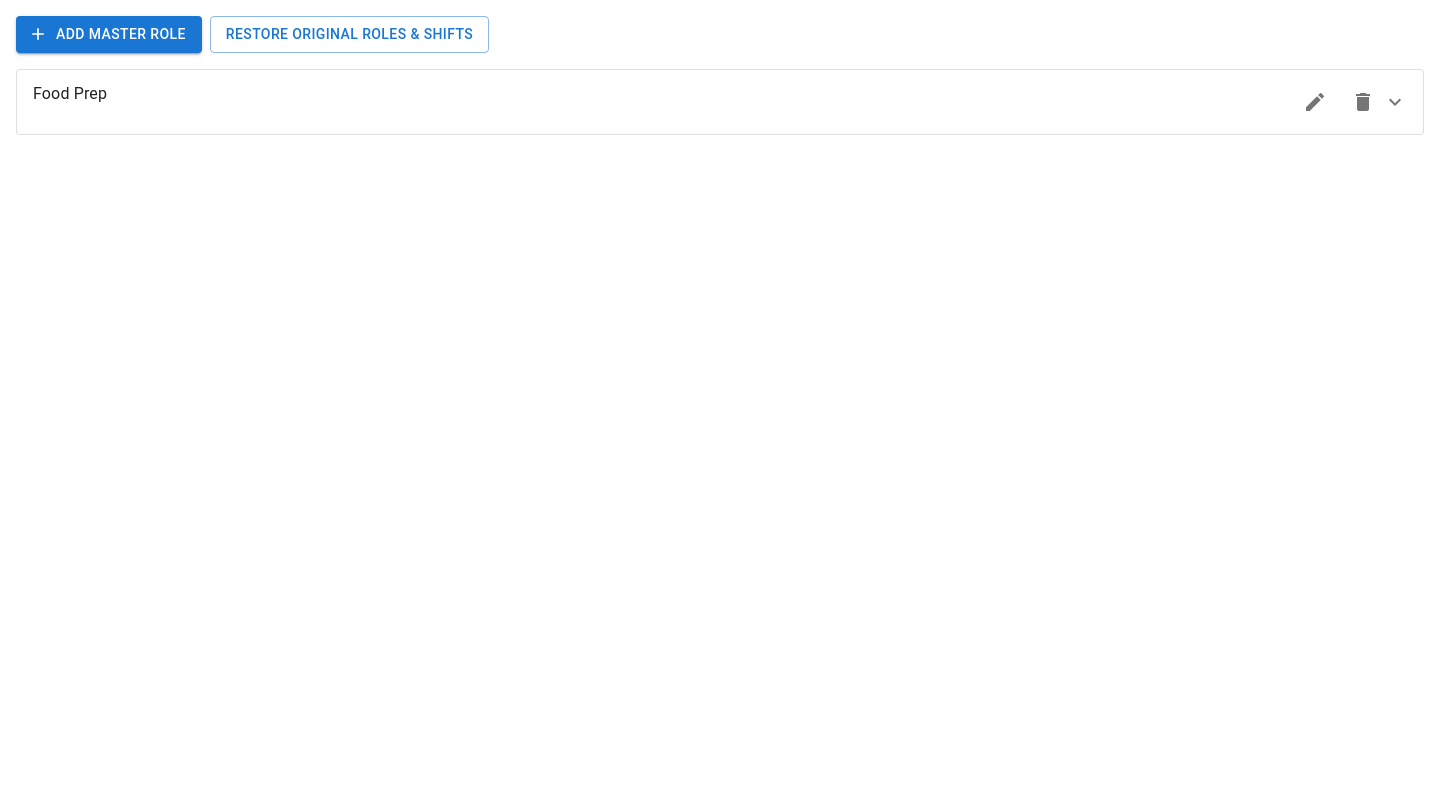
Scenario: VolunteerSettingsTab › handles master role dialog flow
Click the button "Add Master Role": (109, 34) [16, 16, 202, 52]
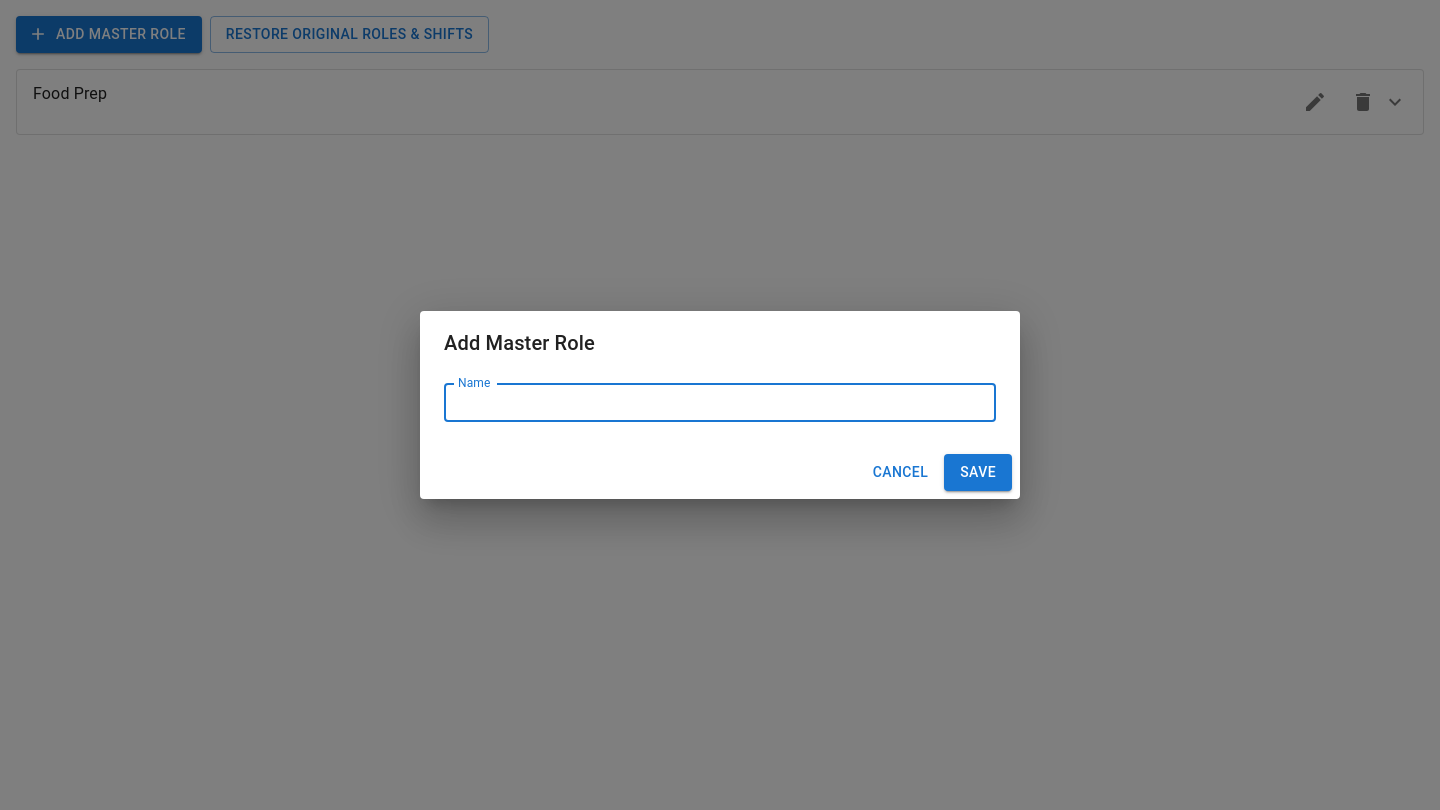
In the field labelled "Name": (720, 403) [444, 383, 996, 422], type "Drivers"
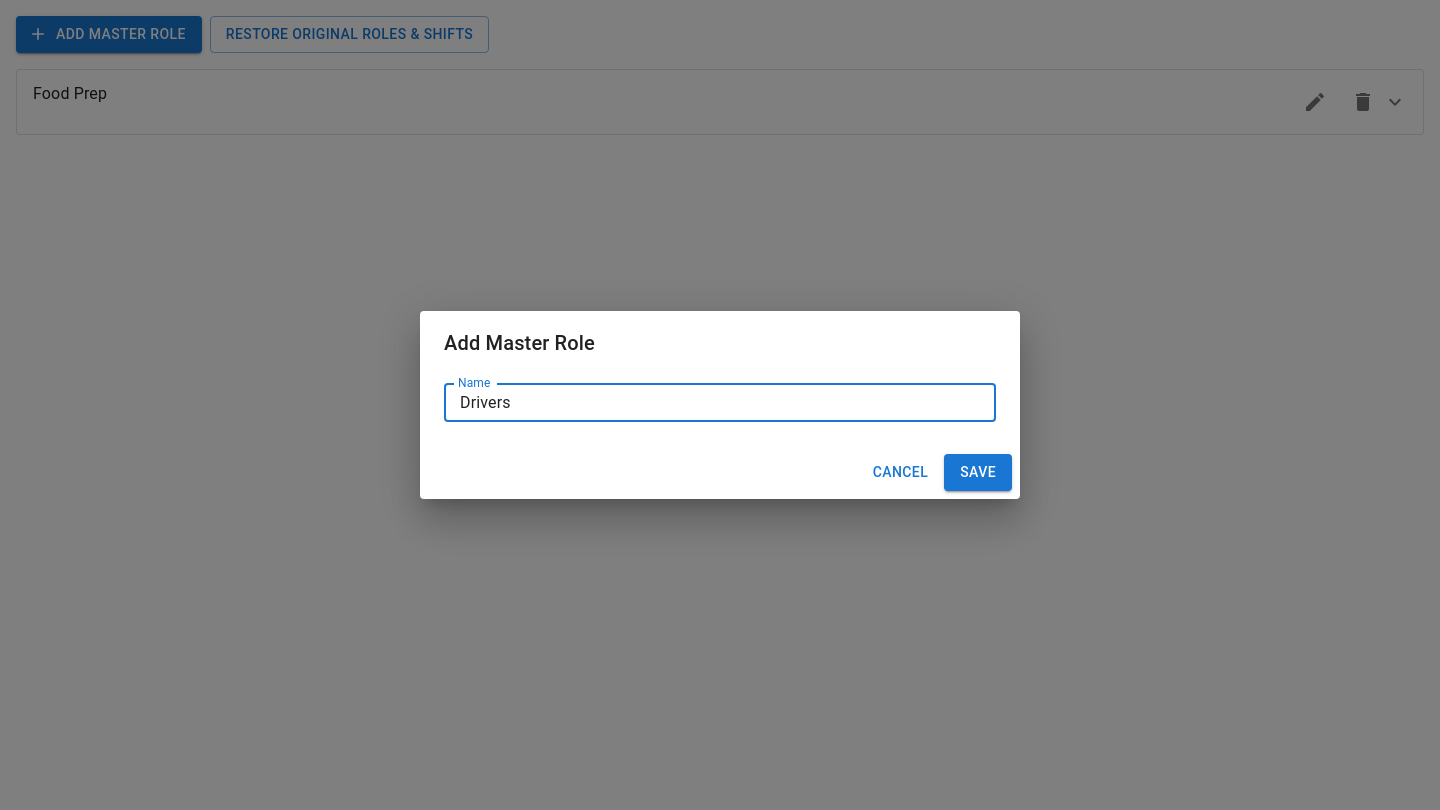
Click the button "Save": (978, 473) [944, 454, 1012, 491]
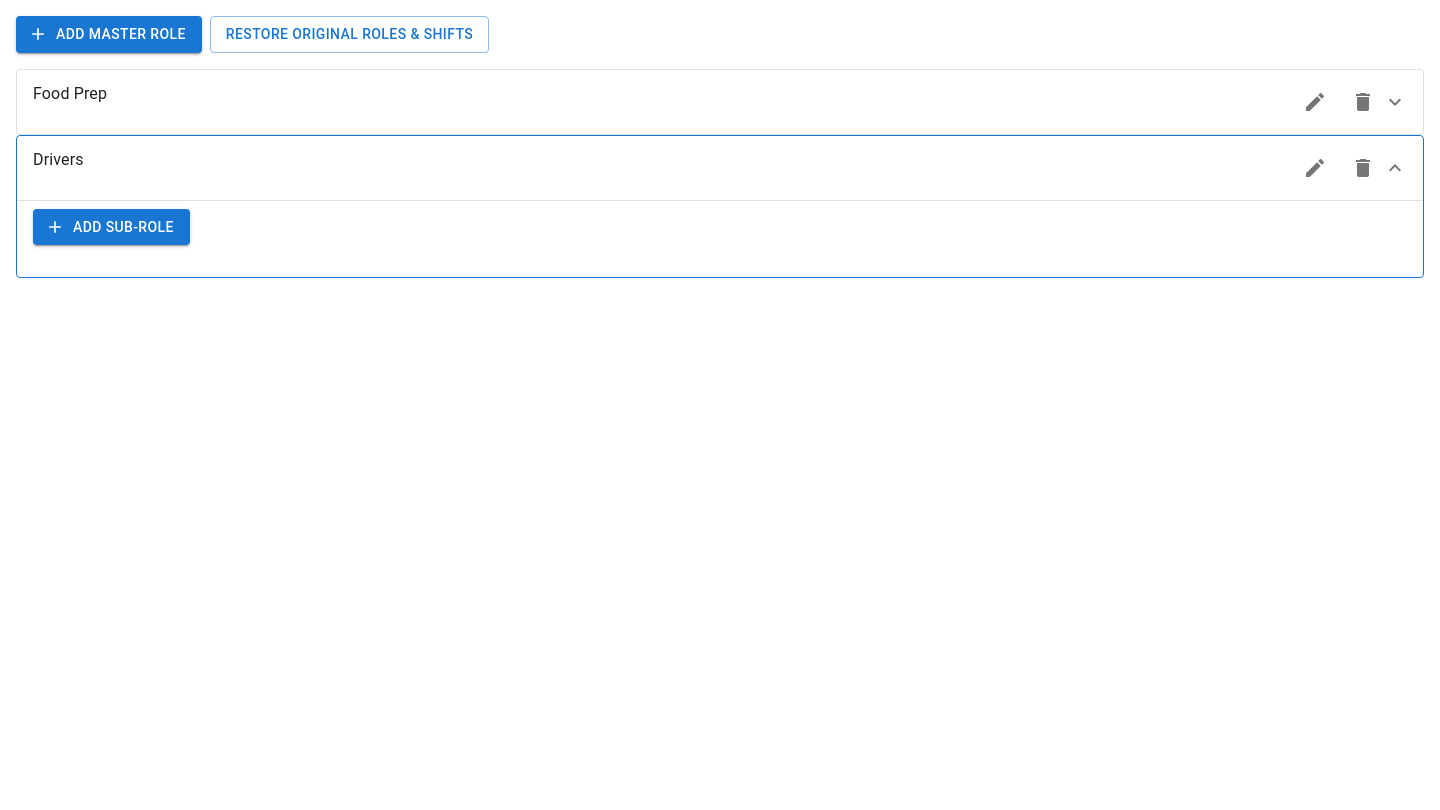
Check: the dialog is gone
Check: the button "Drivers" is expanded, box [17, 136, 1423, 200]
